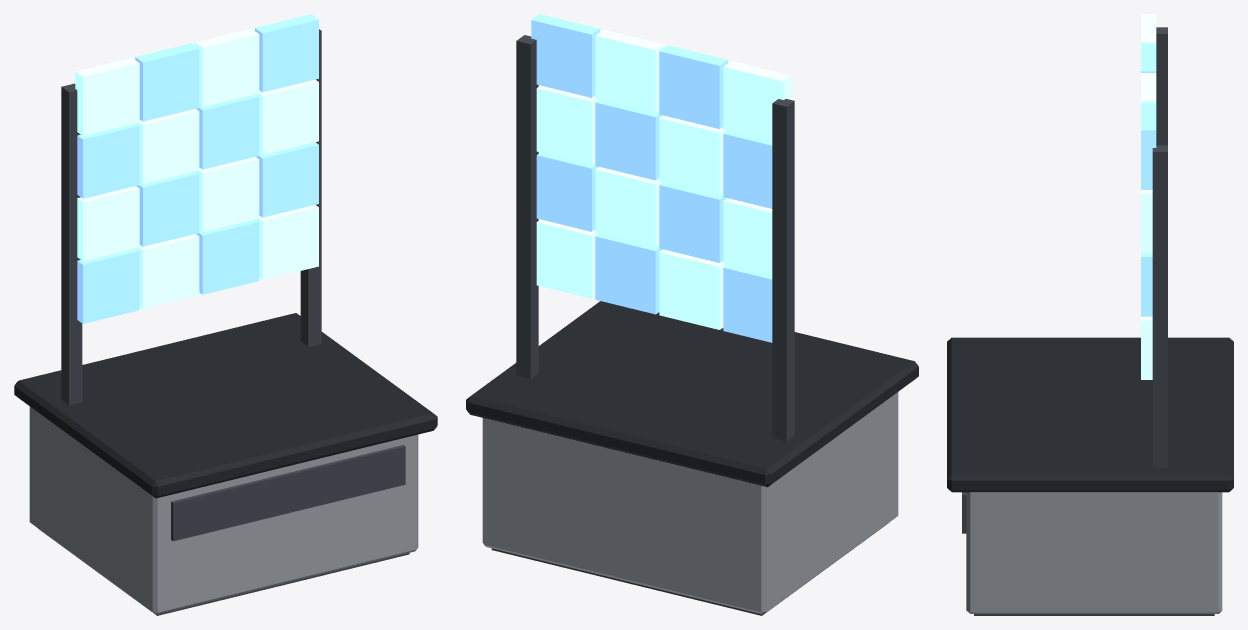
Rendered from poster_p2_4.glb.
The picture shows the model from 3 angles, left to right: view 1: azimuth 30°, elevation 25°; view 2: azimuth 150°, elevation 25°; view 3: azimuth 270°, elevation 25°; orthographic projection. The views are drawn at different scales.
Visible parts, largest first — view 1: poster_p2_4_mesh_Desk, poster_p2_4_mesh; view 2: poster_p2_4_mesh_Desk, poster_p2_4_mesh; view 3: poster_p2_4_mesh_Desk, poster_p2_4_mesh.
Boxes of the visible parts, box(x1,y1,x2,y2) form: poster_p2_4_mesh_Desk: box(14, 313, 437, 615); poster_p2_4_mesh: box(61, 14, 321, 405); poster_p2_4_mesh_Desk: box(466, 301, 918, 615); poster_p2_4_mesh: box(516, 14, 794, 441); poster_p2_4_mesh_Desk: box(947, 337, 1233, 615); poster_p2_4_mesh: box(1141, 14, 1167, 468).
Size of the model in its own units: 0.86 by 1.37 by 0.74.
